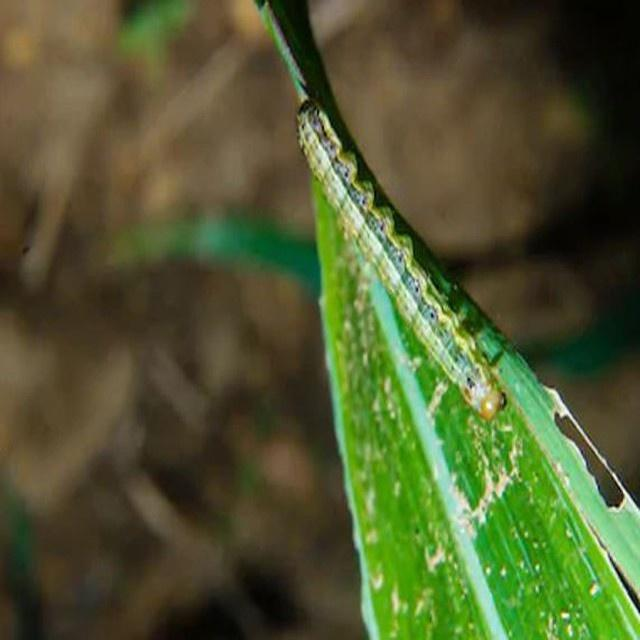gusano_cogollero: (292, 96, 514, 428)
